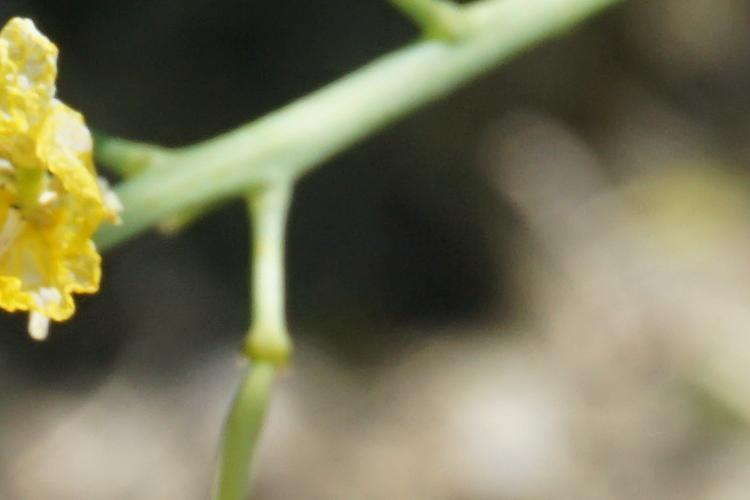yellow: (13, 22, 140, 337)
